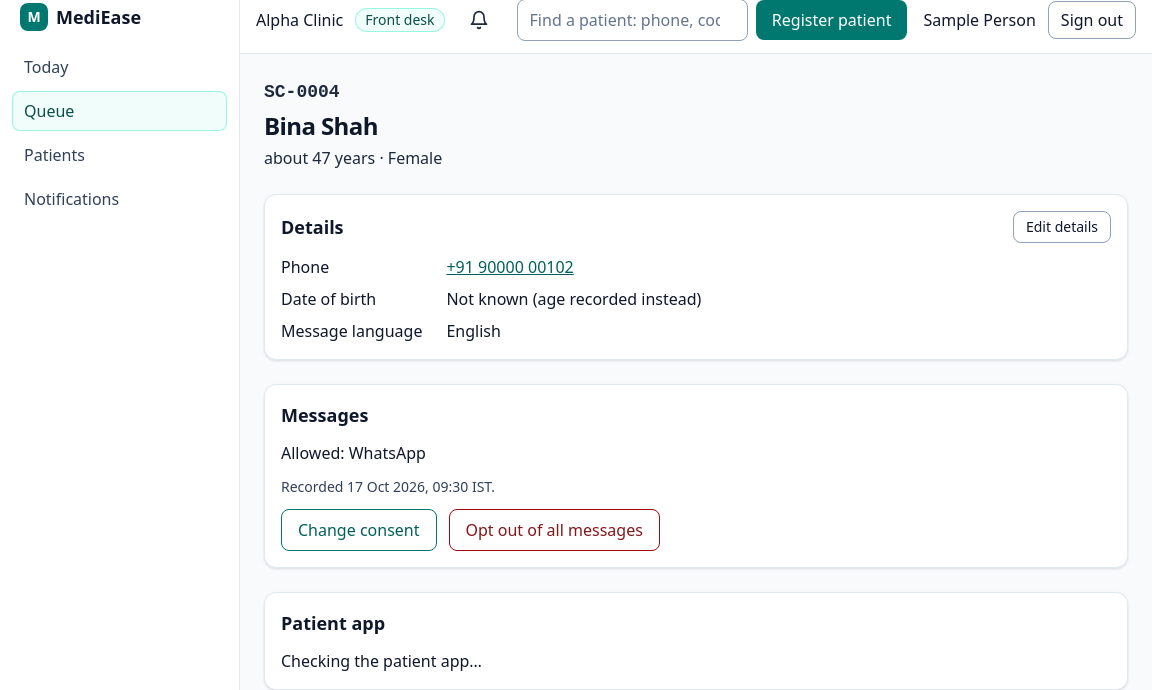
Test: consent, opt-out and opt-in (FR-PAT-05, FR-MSG-05) › AC5: opt-out needs a confirmation; then only Opt back in is offered, and it takes the new answer
Click the button "Opt out of all messages".
click(554, 530)  # box [448,509,660,551]
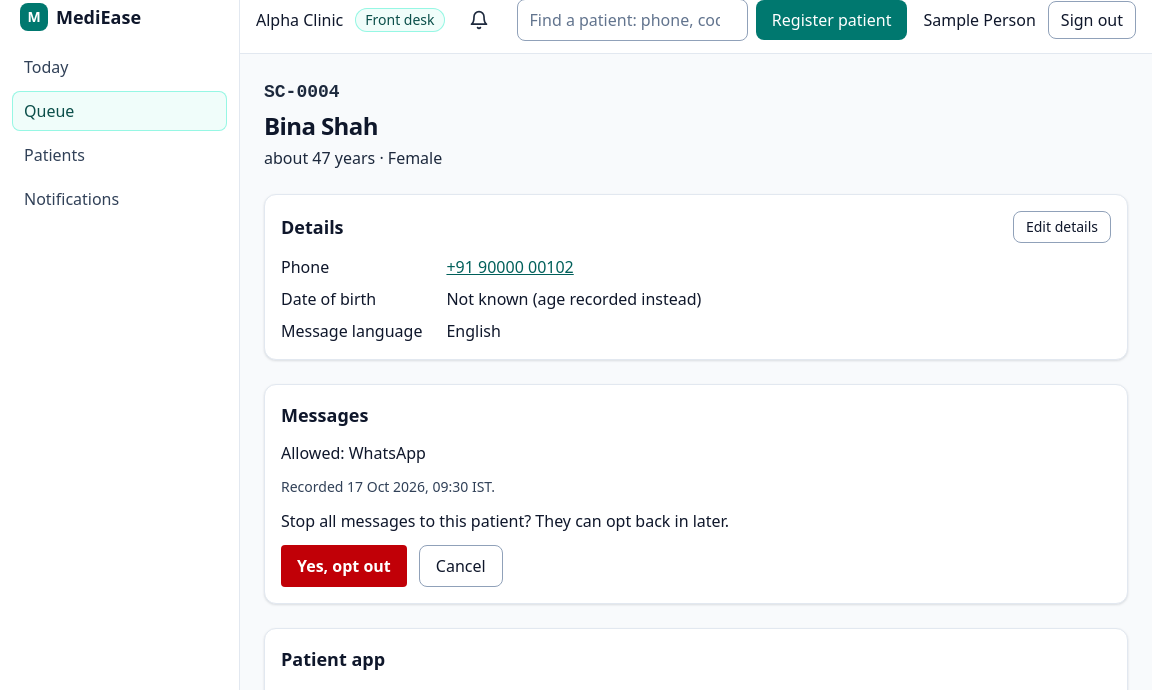
Click the button "Yes, opt out".
click(344, 566)  # box [281,545,407,587]
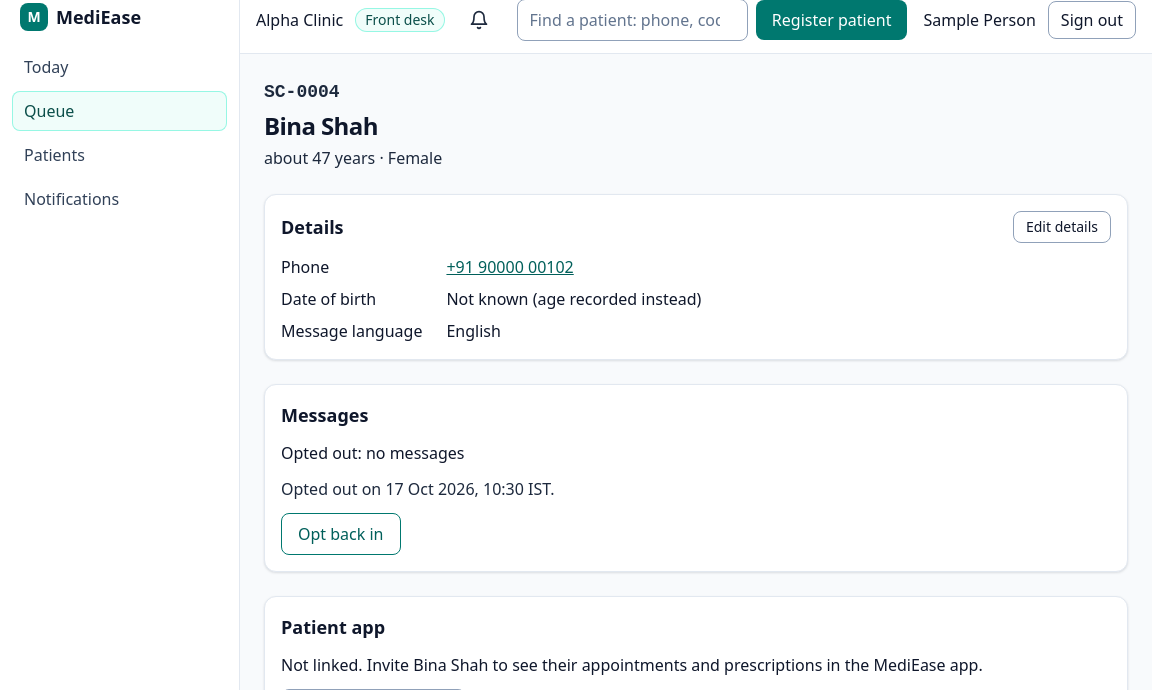
Expected: the button "consent" is not shown
Expected: the text "Opted out: no messages" is shown, [281,442,464,464]
Click the button "Opt back in".
click(341, 534)  # box [281,513,400,555]
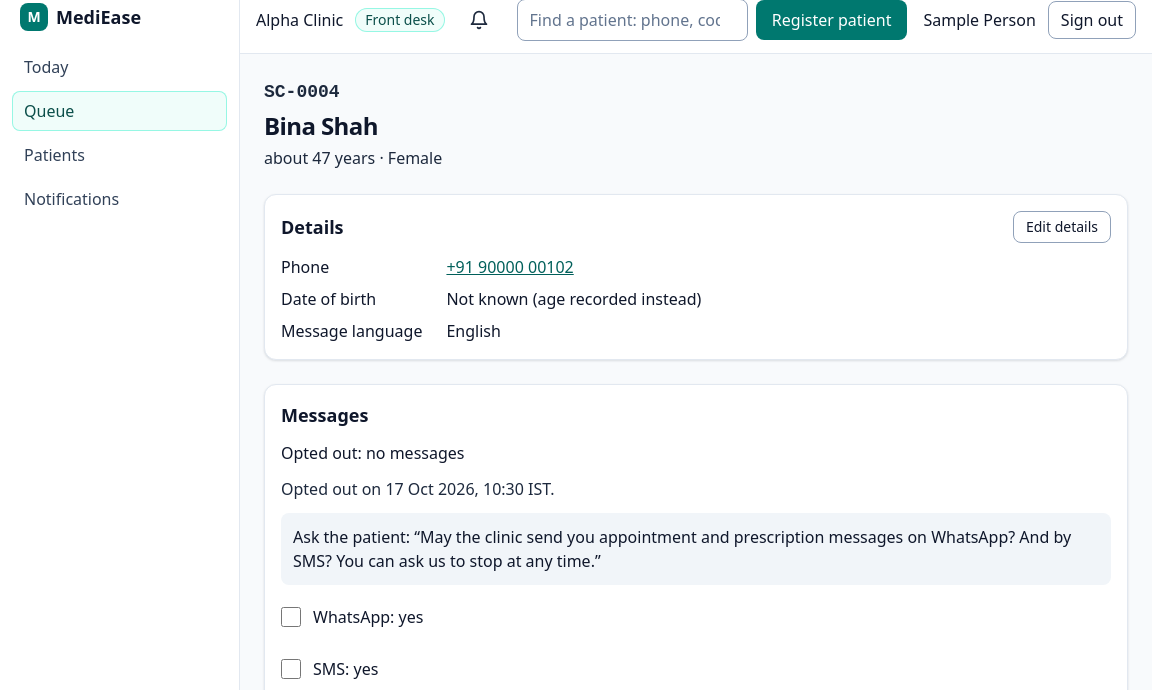
Expected: the checkbox labelled "WhatsApp: yes" is not checked, [281,607,301,627]
Click the checkbox labelled "SMS: yes".
click(291, 669)  # box [281,659,301,679]
(page scrolled)
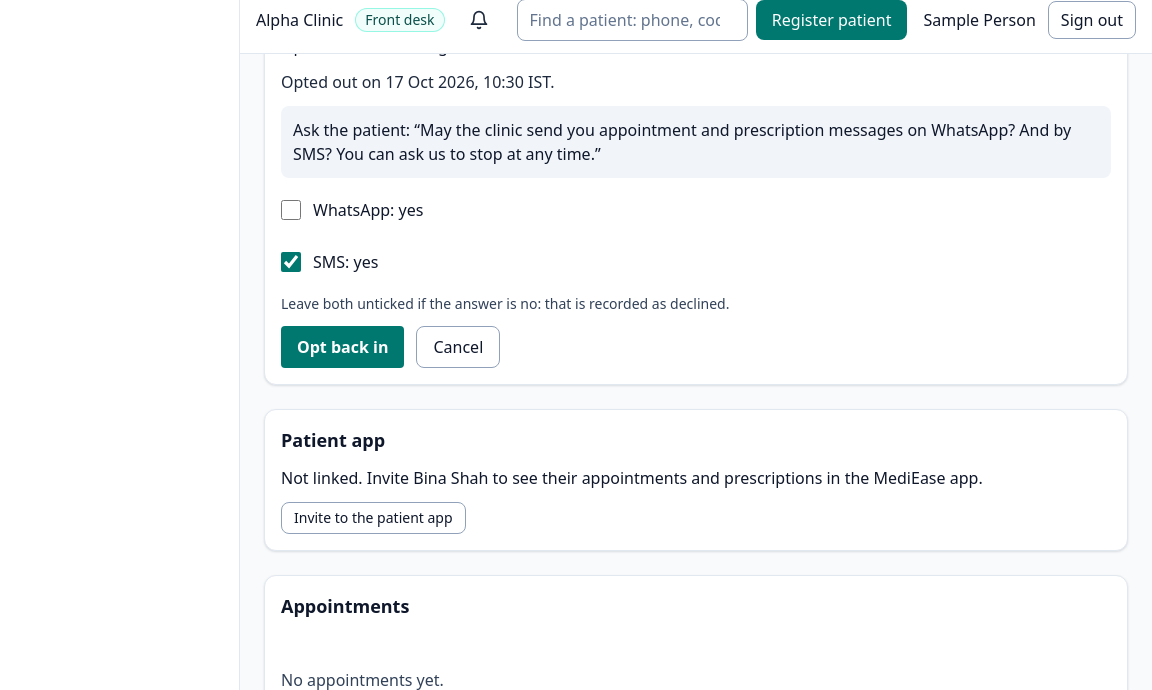
Click the button "Opt back in".
click(343, 347)  # box [281,326,404,368]
(page scrolled)
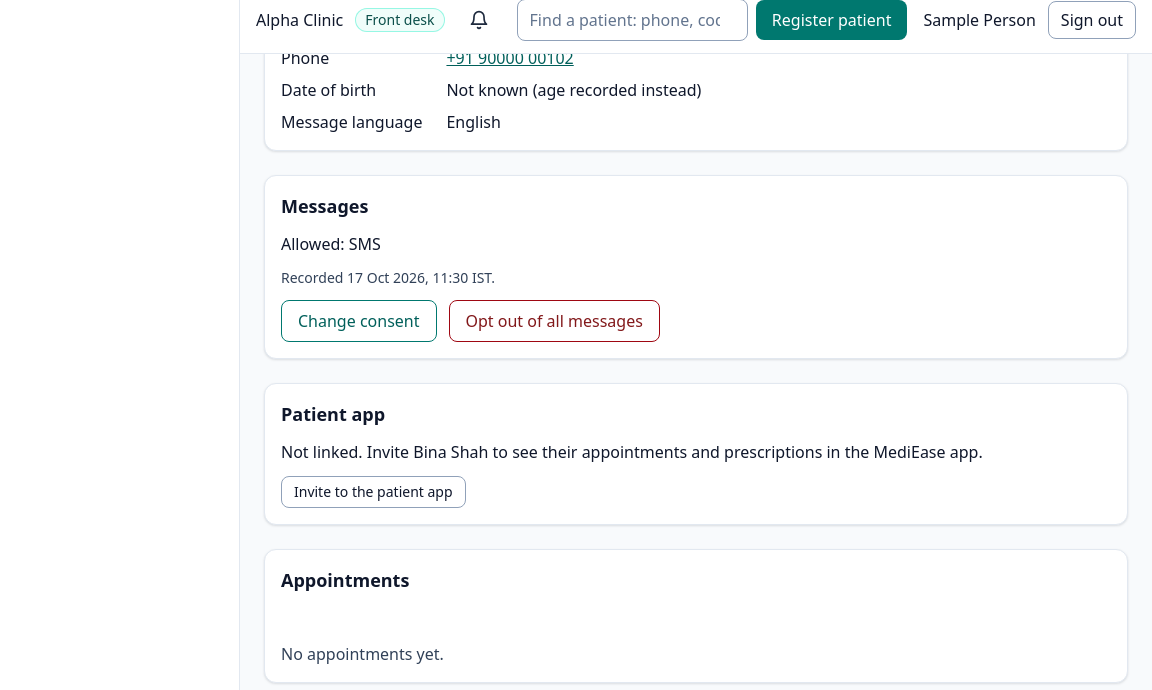
Expected: the text "Allowed: SMS" is shown, [281,233,381,255]
